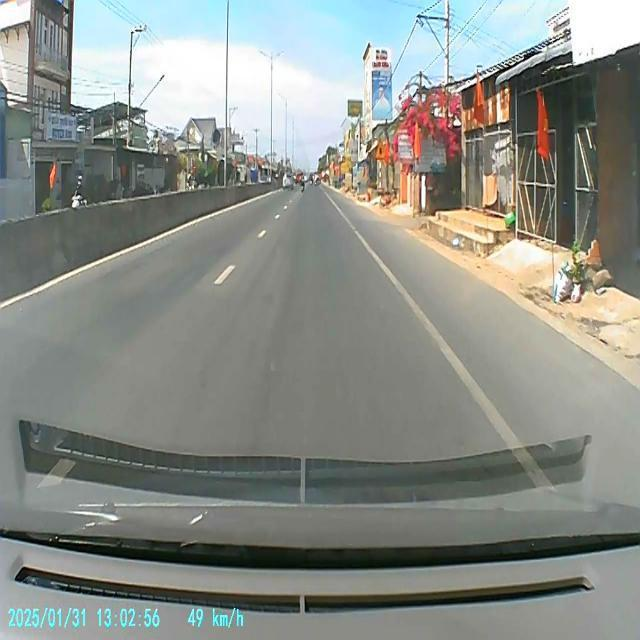207-giao-nhau-voi-duong-khong-uu-tien: (374, 138, 386, 162)
